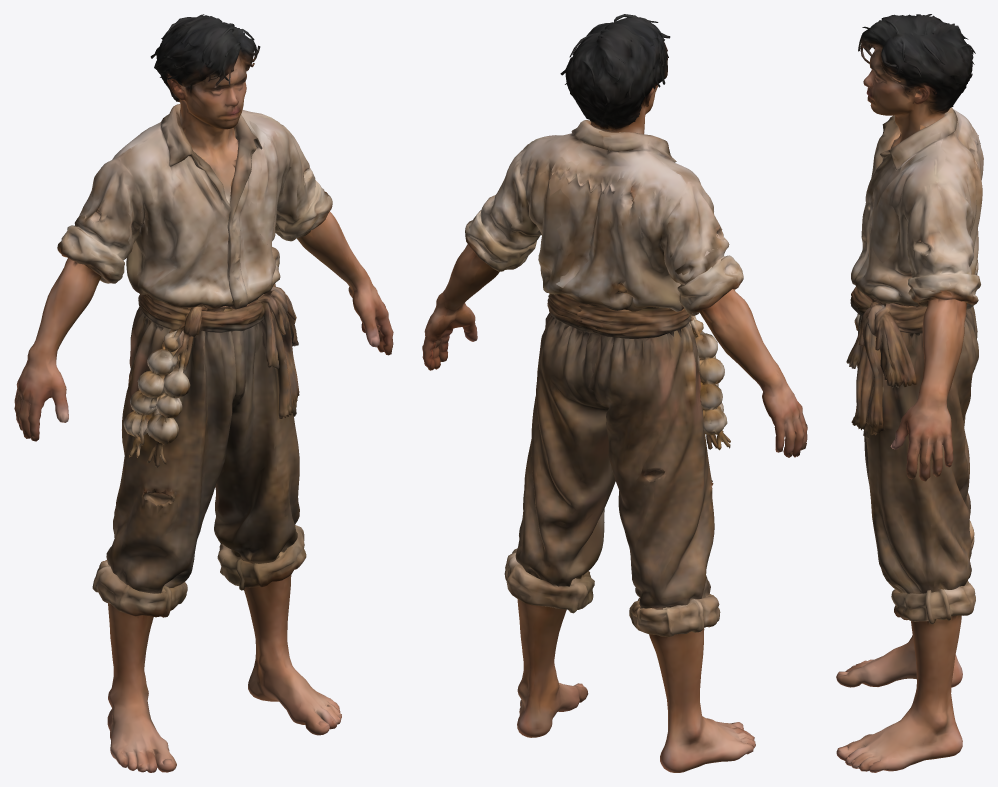
File: player_textured.glb
3 views of the same model, side by side, from view 1: azimuth 30°, elevation 25°; view 2: azimuth 150°, elevation 25°; view 3: azimuth 270°, elevation 25° (orthographic). The views are drawn at different scales.
Visible parts, largest first — view 1: Player; view 2: Player; view 3: Player.
Part boxes in pixels (left/top/right/bottom): Player: left=14, top=14, right=393, bottom=772; Player: left=422, top=14, right=807, bottom=772; Player: left=836, top=14, right=983, bottom=772.
Bounding box in the file's own units: 0.536 × 0.9789 × 0.1856.
1 material, 1 textured.
